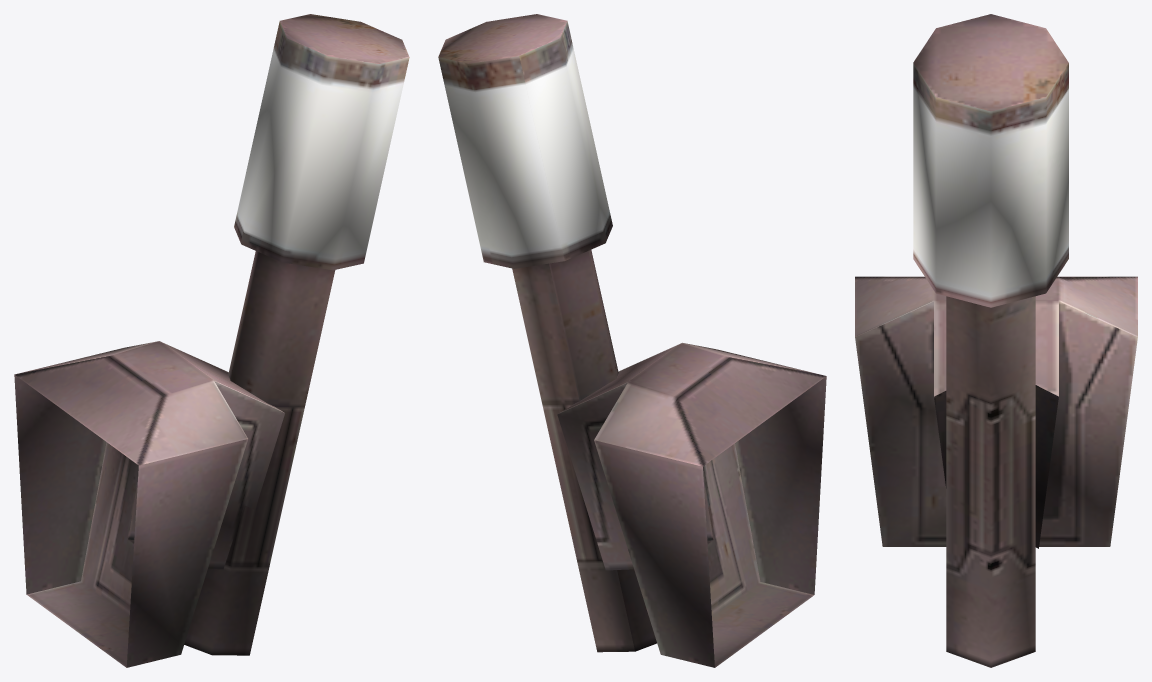
File: lamp3.glb
3 renders of one model, left to right at view 1: azimuth 30°, elevation 25°; view 2: azimuth 150°, elevation 25°; view 3: azimuth 270°, elevation 25°, orthographic. The views are drawn at different scales.
Parts seen in each view (by area): view 1: Box14; view 2: Box14; view 3: Box14.
Part boxes in pixels (x1,y1,x2,y2): Box14: [14, 14, 409, 667]; Box14: [438, 14, 826, 667]; Box14: [855, 14, 1137, 667].
Size of the model in its own units: 16.48 by 28.93 by 10.99.
1 material, 1 textured.
